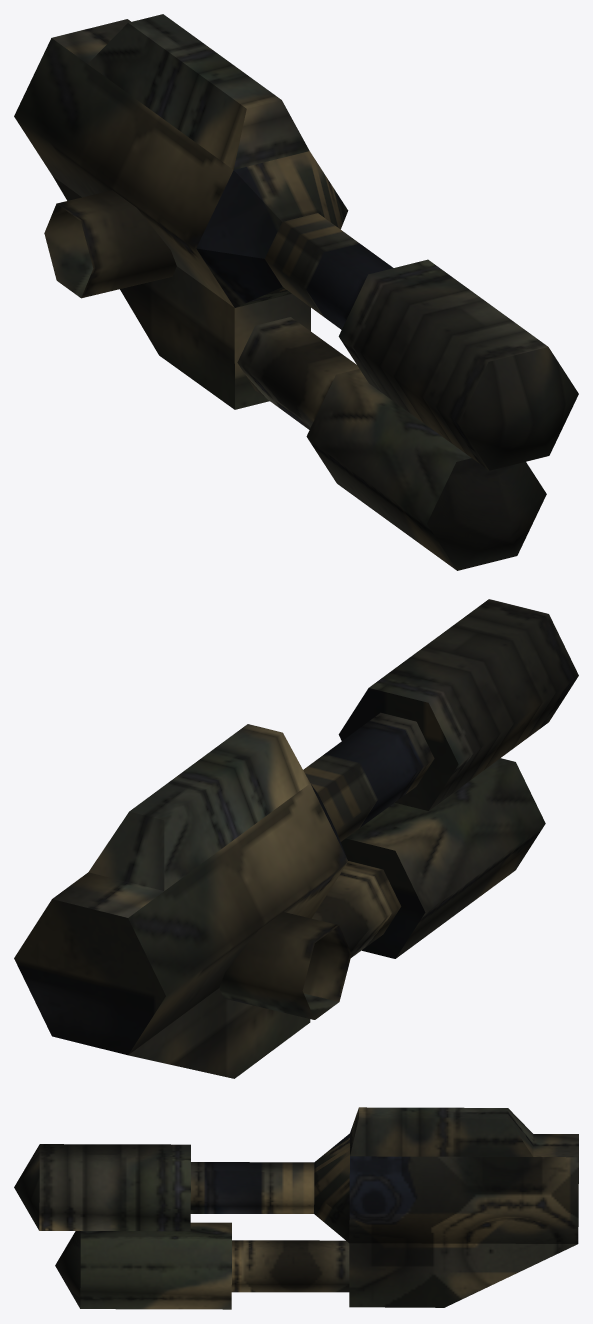
The model's file is Mech03_Weapon_L.FBX.
3 views of the same model, one above another, from view 1: azimuth 30°, elevation 25°; view 2: azimuth 150°, elevation 25°; view 3: azimuth 270°, elevation 25° (orthographic). The views are drawn at different scales.
Visible parts, largest first — view 1: Weapon_Left; view 2: Weapon_Left; view 3: Weapon_Left.
Boxes of the visible parts, x1,y1,x2,y2 form: Weapon_Left: (14,14,578,570); Weapon_Left: (14,599,578,1078); Weapon_Left: (14,1107,578,1309).
Size of the model in its own units: 312 by 433 by 1184.
